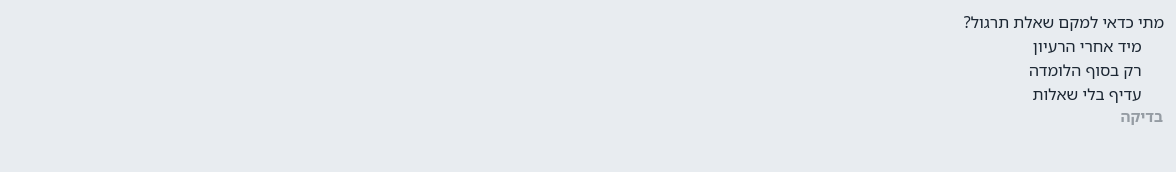
Test: QuizRenderer — מענה › מציג משוב שלילי לתשובה שגויה
Click the radio button labelled "רק בסוף הלומדה".
click(1085, 70)  # box [1029,59,1142,81]
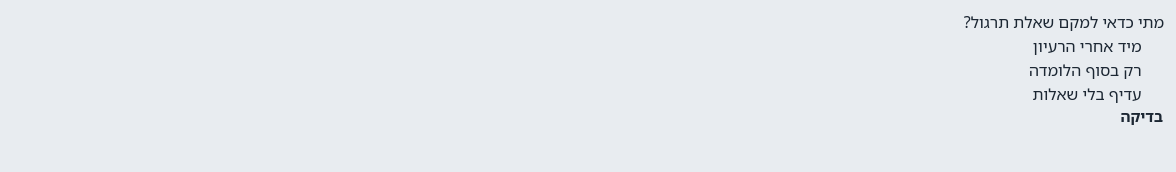
Click the button "בדיקה".
click(1142, 116)  # box [1119,106,1164,126]
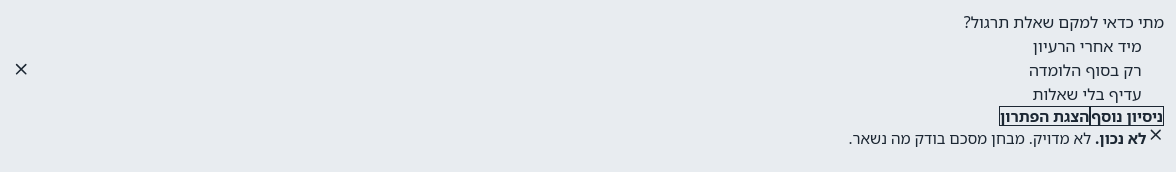
Check: the text "לא נכון. לא מדויק. מבחן מסכם בודק מה נשאר." is shown, box [848,126,1146,150]
